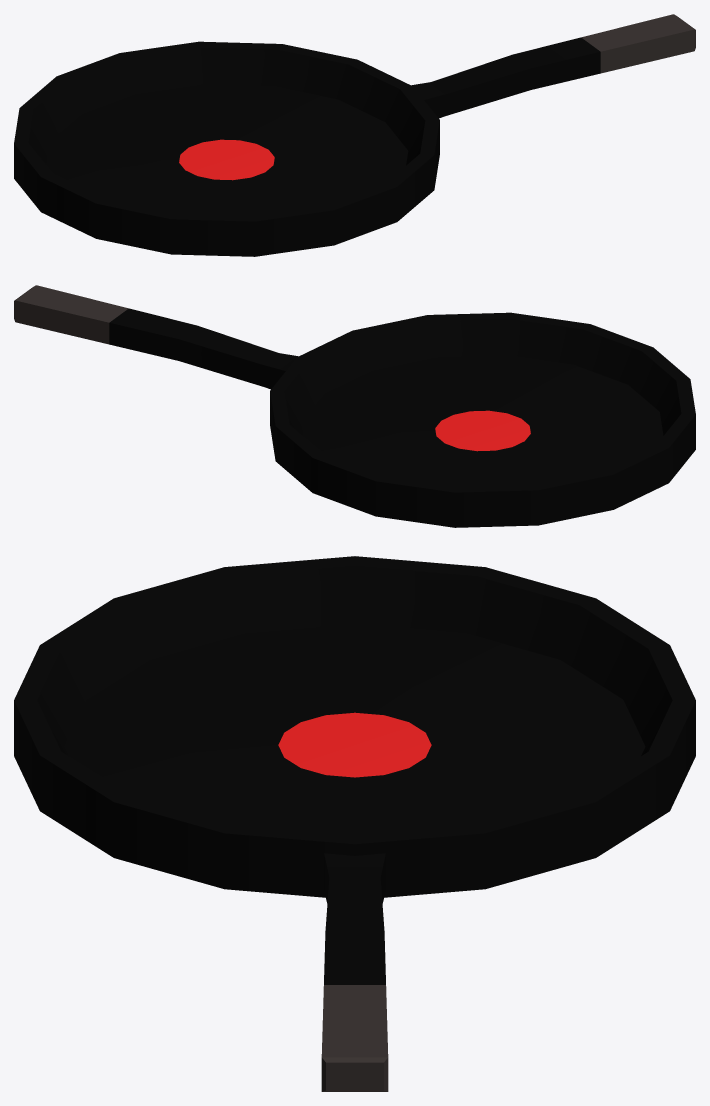
The model's file is LP_pan_1.obj.
3 renders of one model, top to bottom at view 1: azimuth 30°, elevation 25°; view 2: azimuth 150°, elevation 25°; view 3: azimuth 270°, elevation 25°, orthographic. The views are drawn at different scales.
Visible parts, largest first — view 1: LP_pan_1.001; view 2: LP_pan_1.001; view 3: LP_pan_1.001.
Boxes of the visible parts, x1,y1,x2,y2 form: LP_pan_1.001: [14, 14, 695, 256]; LP_pan_1.001: [14, 285, 695, 527]; LP_pan_1.001: [14, 556, 695, 1091].
Size of the model in its own units: 0.4062 by 0.0211 by 0.234.
